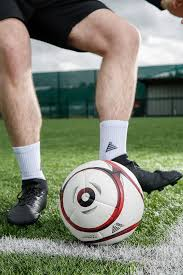football ball: (60, 160, 146, 247)
